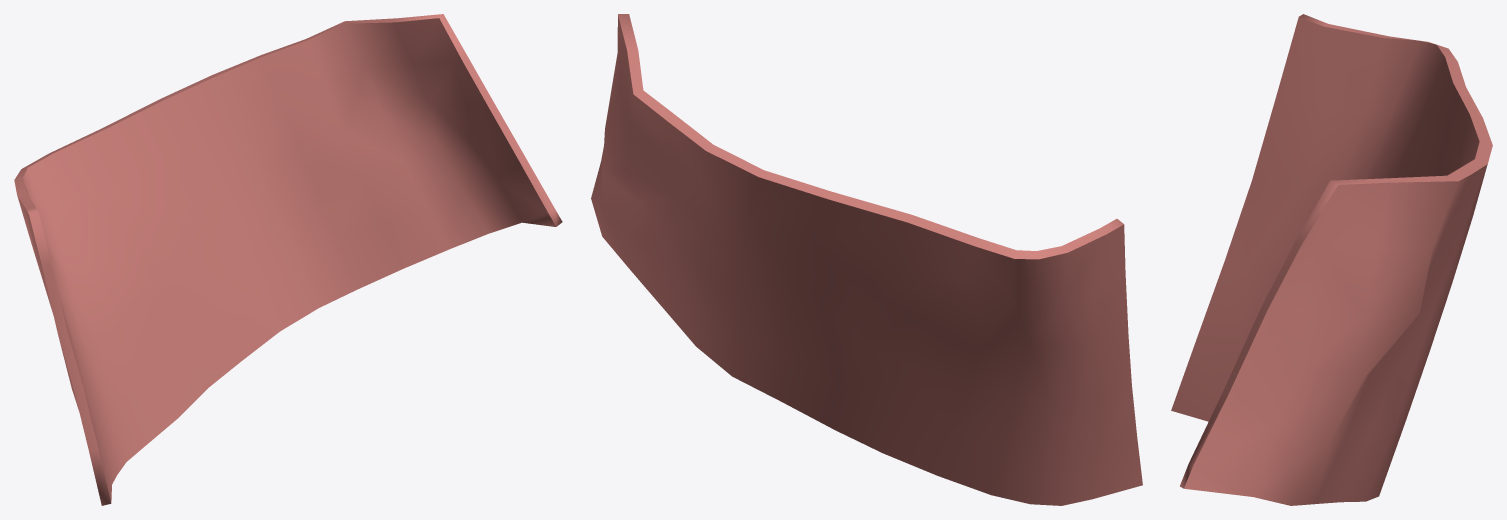
3 renders of one model, left to right at view 1: azimuth 30°, elevation 25°; view 2: azimuth 150°, elevation 25°; view 3: azimuth 270°, elevation 25°, orthographic. The views are drawn at different scales.
Parts seen in each view (by area): view 1: ZA_e52cdaf27c06542d; view 2: ZA_e52cdaf27c06542d; view 3: ZA_e52cdaf27c06542d.
Boxes of the visible parts, x1,y1,x2,y2 form: ZA_e52cdaf27c06542d: [14, 14, 562, 505]; ZA_e52cdaf27c06542d: [591, 14, 1142, 505]; ZA_e52cdaf27c06542d: [1171, 14, 1492, 505].
Bounding box in the file's own units: 0.0576 × 0.04 × 0.0232.
